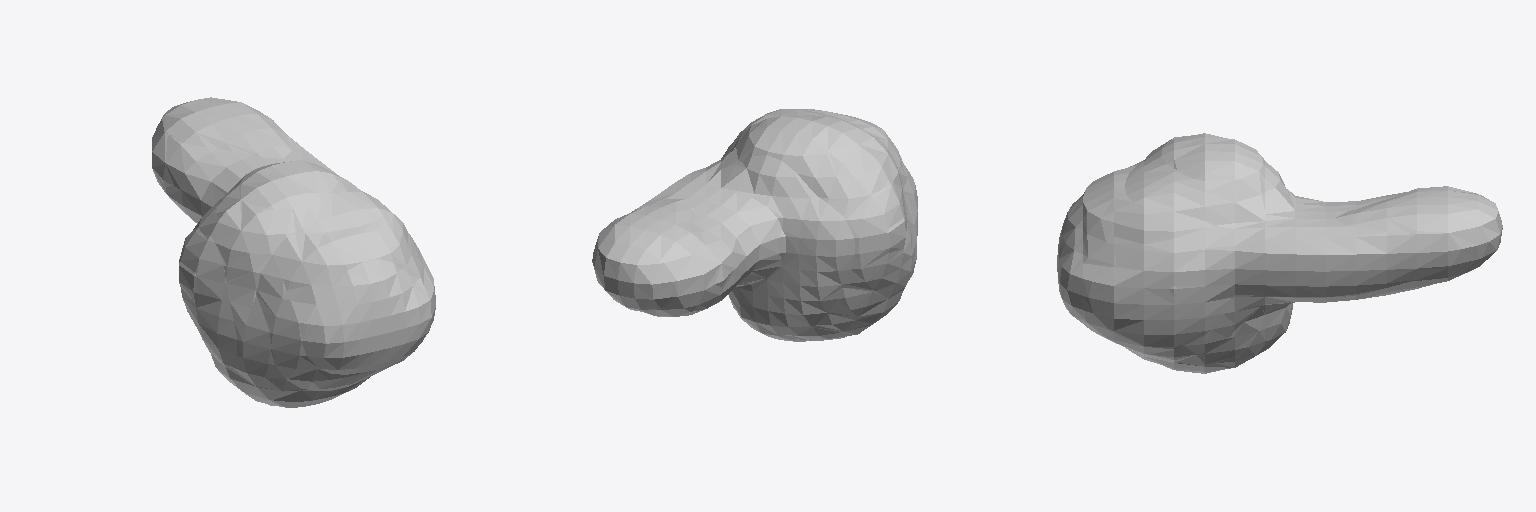
The model's file is 1vl1_aligned_cms.obj.
3 views of the same model, side by side, from view 1: azimuth 30°, elevation 25°; view 2: azimuth 150°, elevation 25°; view 3: azimuth 270°, elevation 25° (orthographic).
Size of the model in its own units: 57.35 by 59.52 by 110.